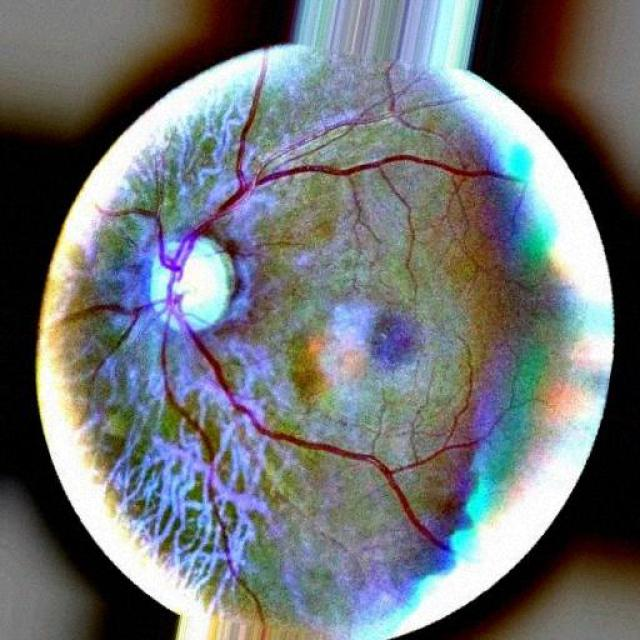Macula: (370, 314, 420, 369)
Nerves: (61, 56, 515, 551)
Optic Disk: (145, 236, 234, 331)
